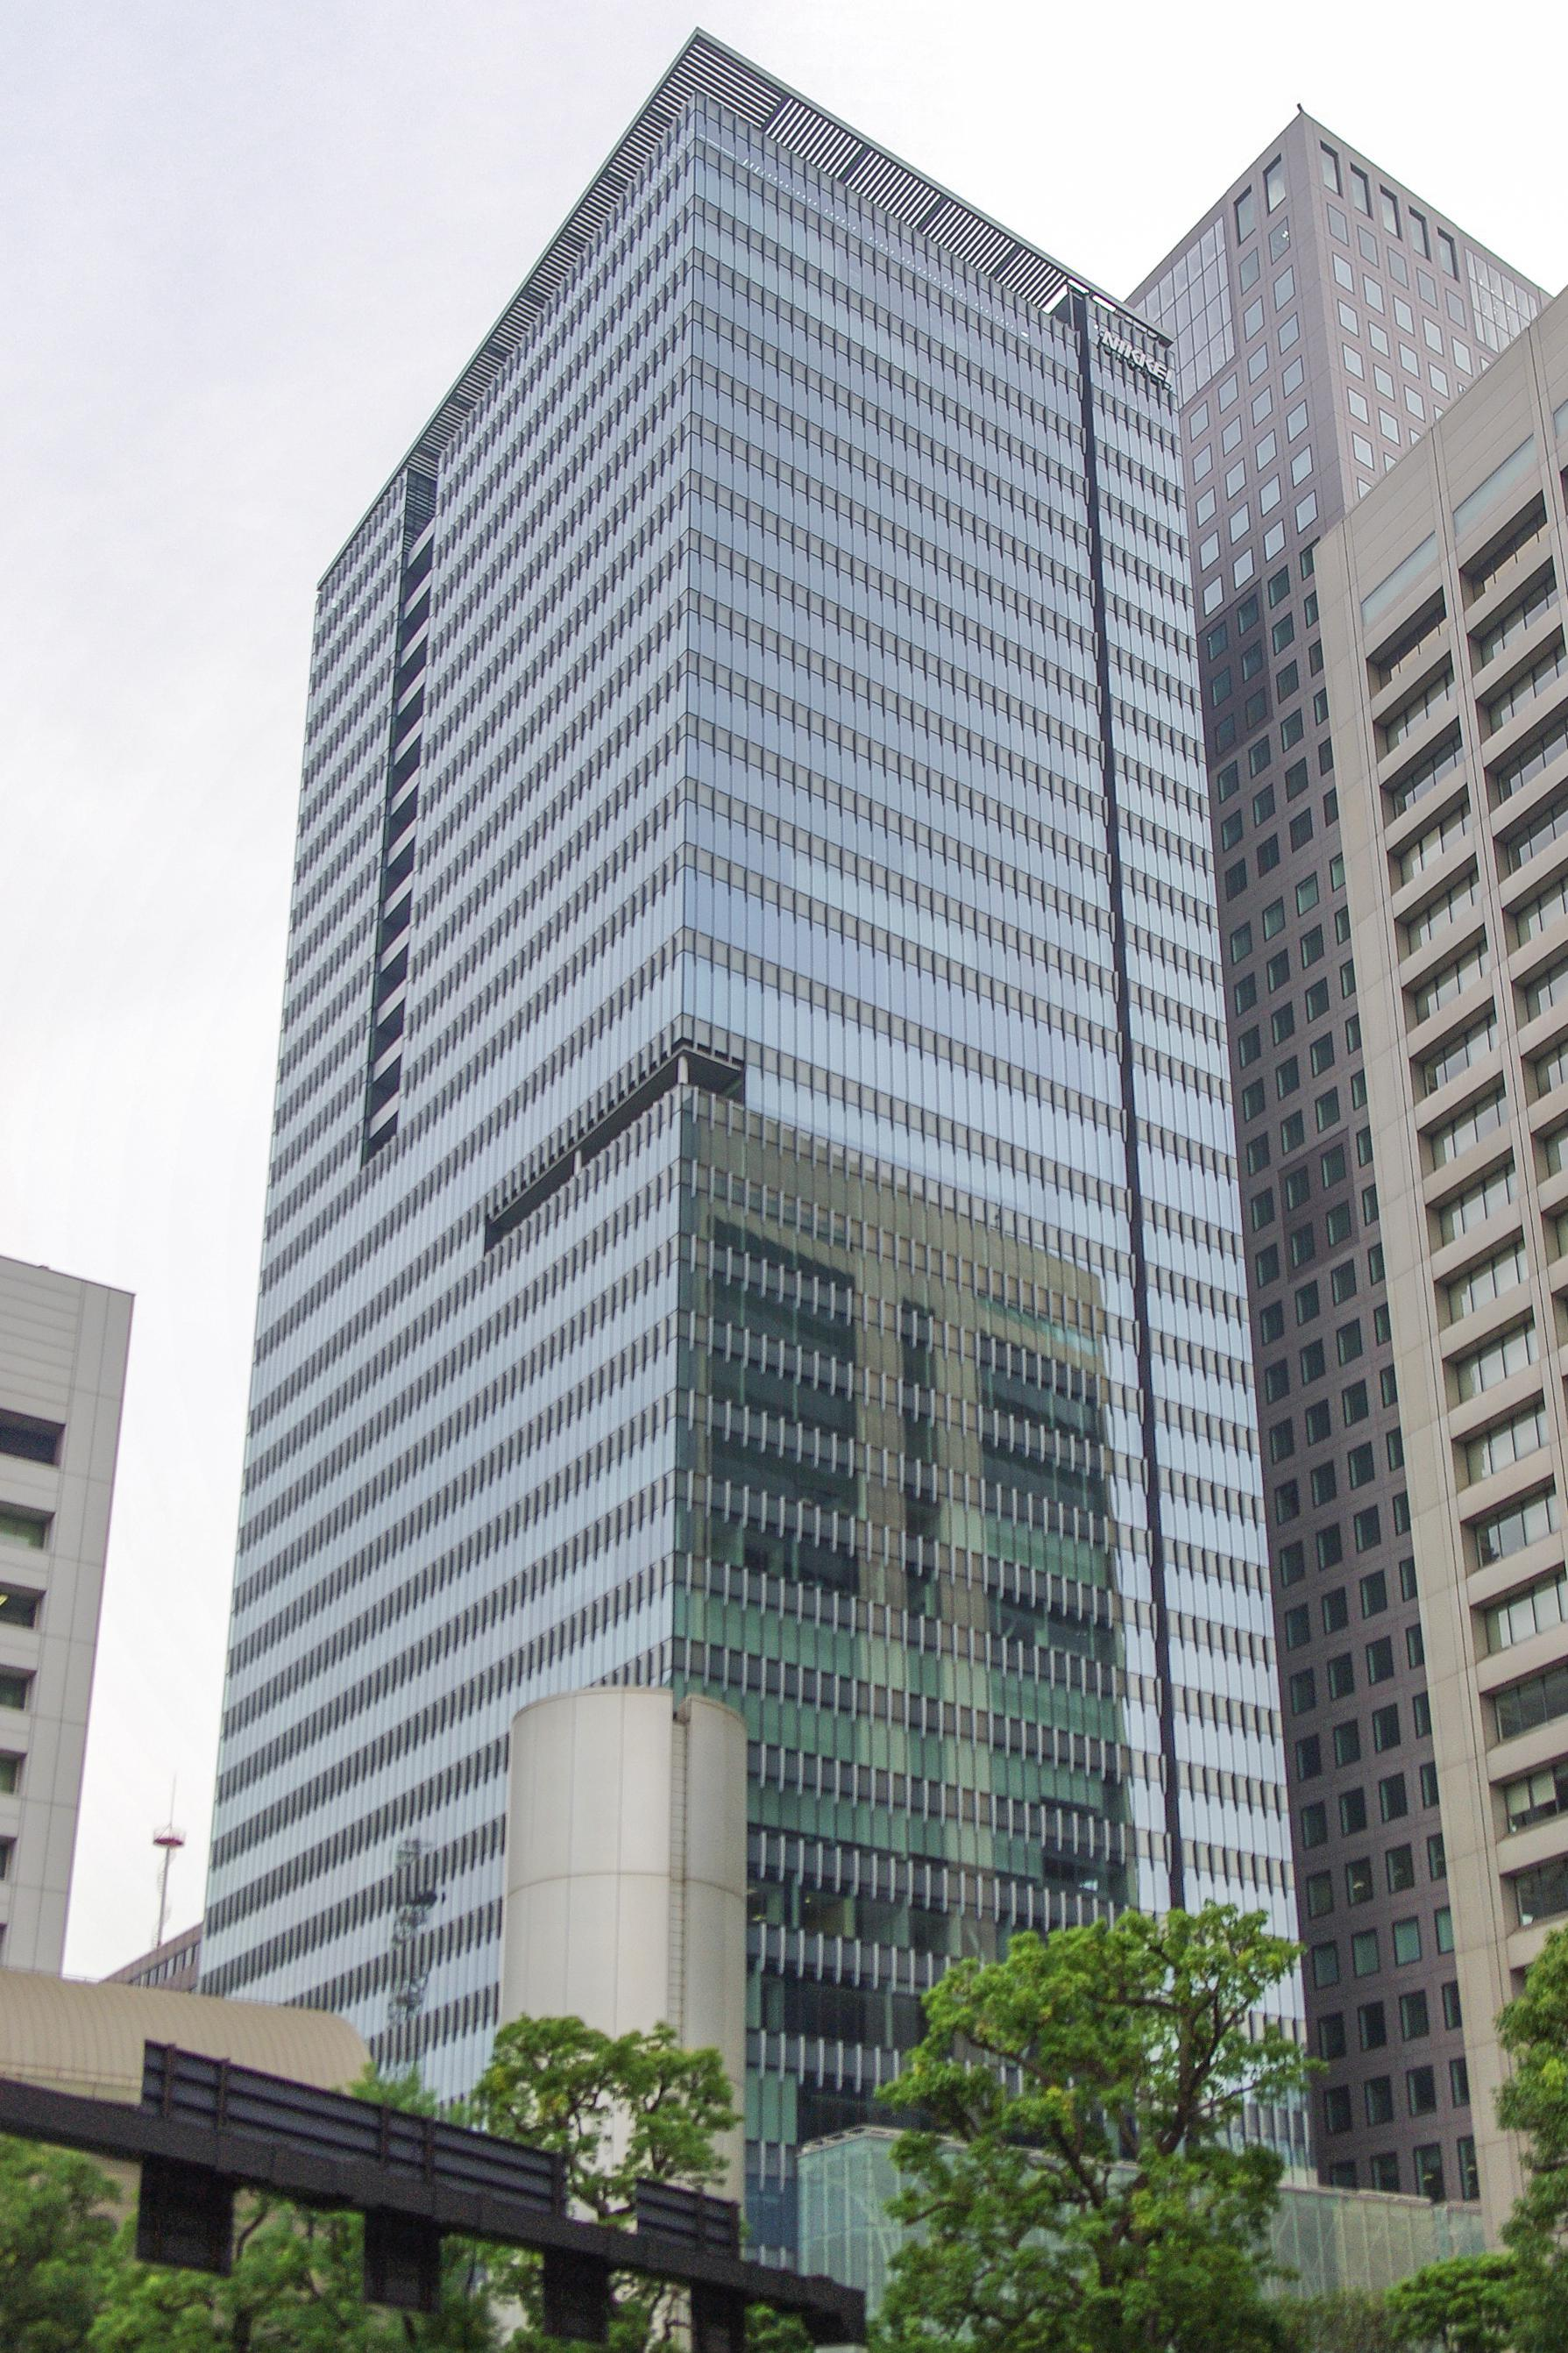affected: (245, 9, 1255, 2082)
